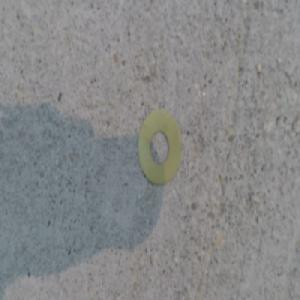Washer: (137, 108, 182, 186)
